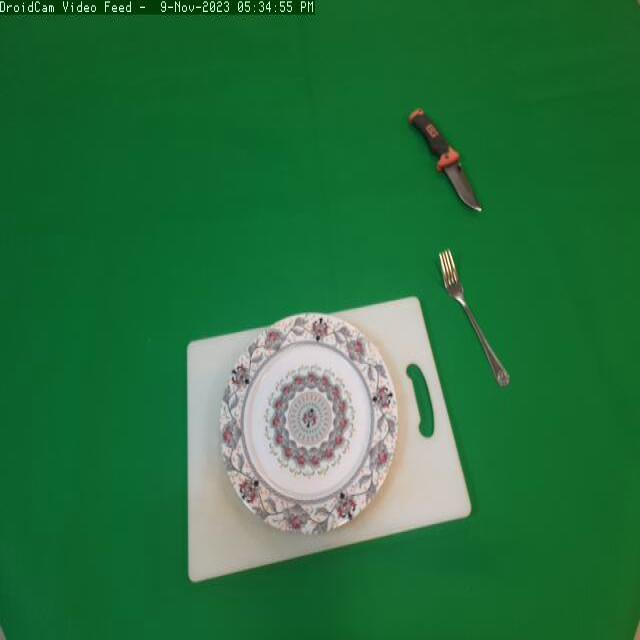cutting board: (178, 294, 476, 592)
fork: (437, 242, 513, 392)
knife: (403, 98, 486, 222)
plate: (216, 309, 403, 542)
